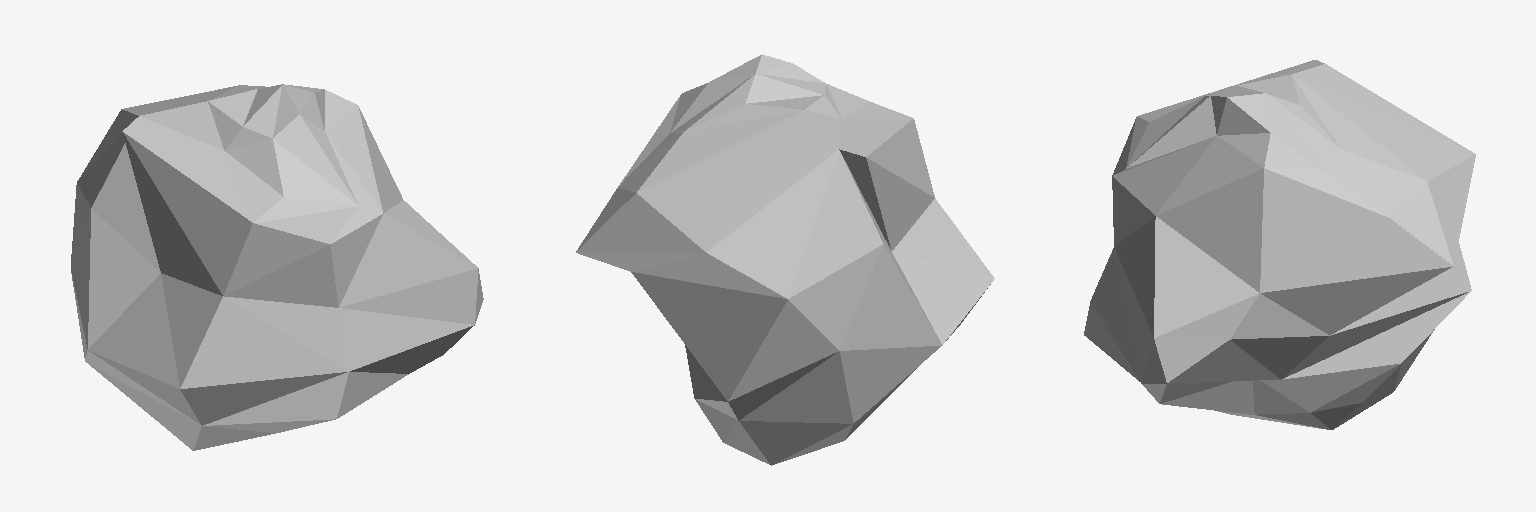
The model's file is asteroid.obj.
The picture shows the model from 3 angles: view 1: azimuth 30°, elevation 25°; view 2: azimuth 150°, elevation 25°; view 3: azimuth 270°, elevation 25°; orthographic projection.
Size of the model in its own units: 2.83 by 2.75 by 2.8.